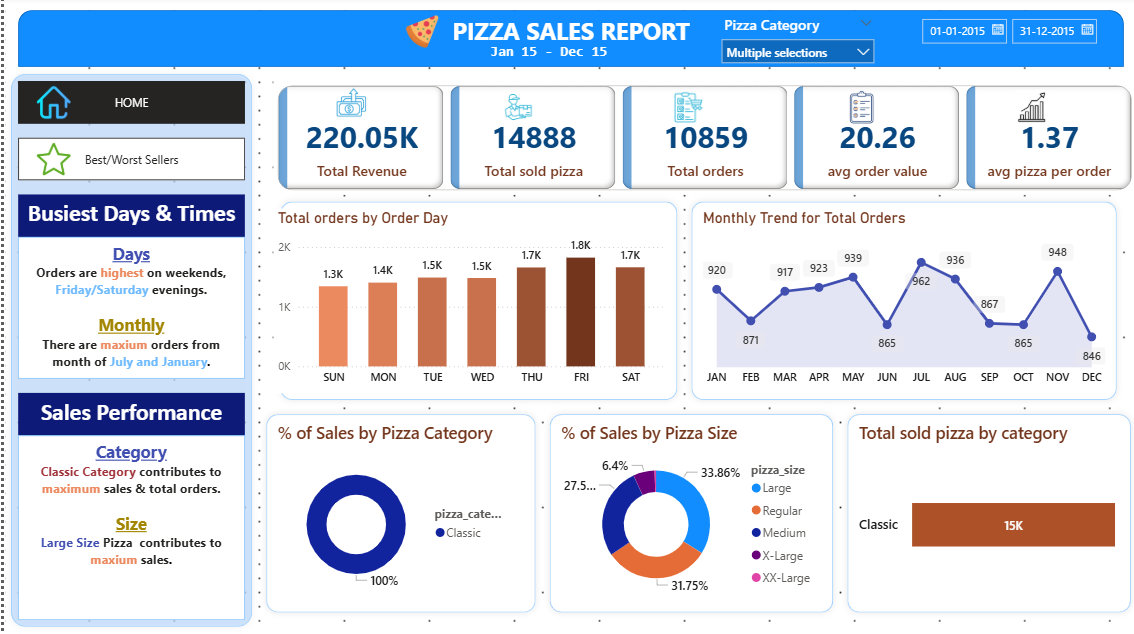

This screenshot's page, from the dashboard's own definition file:
{"tool":"powerbi","page":{"name":"HOME","canvas":[1280,720],"ordinal":0},"visuals":[{"type":"cardVisual","fields":{"Data":["pizza_sales.Total Revenue","pizza_sales.Total sold pizza","pizza_sales.Total orders","pizza_sales.avg order value","pizza_sales.avg pizza per order"]},"box":[304,96,976,128],"z":0},{"type":"shape","box":[16,16,1248,64],"z":1000},{"type":"textbox","box":[432,16,416,64],"z":2000},{"type":"textbox","box":[544,48,160,32],"z":3000},{"type":"image","box":[448,16,48,48],"z":4000},{"type":"image","box":[368,96,48,48],"z":5000},{"type":"image","box":[751,103,45,45],"z":6000},{"type":"image","box":[560,100,41,51],"z":7000},{"type":"image","box":[944,101,48,48],"z":8000},{"type":"image","box":[1136,101,48,48],"z":9000},{"type":"shape","box":[304,224,464,240],"z":10000},{"type":"columnChart","fields":{"Category":["pizza_sales.Order Day"],"Y":["pizza_sales.Total orders"]},"box":[304,240,448,208],"z":11000},{"type":"shape","box":[768,224,496,240],"z":12000},{"type":"areaChart","title":"Monthly Trend for Total Orders","fields":{"Y":["pizza_sales.Total orders"],"Category":["pizza_sales.Order Month"]},"box":[784,240,464,208],"z":13000},{"type":"shape","box":[288,464,320,240],"z":14000},{"type":"shape","box":[0,80,288,640],"z":14500},{"type":"shape","box":[608,464,336,240],"z":15000},{"type":"shape","box":[944,464,336,240],"z":16000},{"type":"donutChart","title":"% of Sales by Pizza Category","fields":{"Category":["pizza_sales.pizza_category"],"Y":["pizza_sales.Total Revenue"]},"box":[304,480,272,208],"z":17000},{"type":"donutChart","title":"% of Sales by Pizza Size","fields":{"Y":["pizza_sales.Total Revenue"],"Category":["pizza_sales.pizza_size"]},"box":[624,480,304,208],"z":18000},{"type":"funnel","title":"Total sold pizza by category","fields":{"Category":["pizza_sales.pizza_category"],"Y":["pizza_sales.Total sold pizza"]},"box":[960,480,304,208],"z":20000},{"type":"textbox","box":[16,224,256,48],"z":21000},{"type":"textbox","box":[16,272,256,160],"z":21001},{"type":"textbox","box":[16,448,256,48],"z":21002},{"type":"textbox","box":[16,496,256,208],"z":21003},{"type":"slicer","fields":{"Values":["pizza_sales.pizza_category"]},"box":[800,16,192,64],"z":21004},{"type":"slicer","fields":{"Values":["pizza_sales.order_date"]},"box":[1024,16,224,64],"z":21005},{"type":"pageNavigator","box":[16,96,256,48],"z":21006},{"type":"pageNavigator","box":[16,160,256,48],"z":21007},{"type":"image","box":[32,96,48,48],"z":21008},{"type":"image","box":[32,160,48,48],"z":21009}]}

Visuals, with their boxes in screenshot pixels (x1, y1, x2, y2), scaled from the page's 1280x720 canvas onto the 1134x634 screenshot:
cardVisual - pizza_sales.Total Revenue x pizza_sales.Total sold pizza: bbox(269, 85, 1133, 197)
shape: bbox(14, 14, 1120, 70)
textbox: bbox(383, 14, 751, 70)
textbox: bbox(482, 42, 624, 70)
image: bbox(397, 14, 439, 56)
image: bbox(326, 85, 369, 127)
image: bbox(665, 91, 705, 130)
image: bbox(496, 88, 532, 133)
image: bbox(836, 89, 879, 131)
image: bbox(1006, 89, 1049, 131)
shape: bbox(269, 197, 680, 409)
columnChart - pizza_sales.Order Day x pizza_sales.Total orders: bbox(269, 211, 666, 394)
shape: bbox(680, 197, 1120, 409)
"Monthly Trend for Total Orders" areaChart: bbox(695, 211, 1106, 394)
shape: bbox(255, 409, 539, 620)
shape: bbox(0, 70, 255, 633)
shape: bbox(539, 409, 836, 620)
shape: bbox(836, 409, 1133, 620)
"% of Sales by Pizza Category" donutChart: bbox(269, 423, 510, 606)
"% of Sales by Pizza Size" donutChart: bbox(553, 423, 822, 606)
"Total sold pizza by category" funnel: bbox(850, 423, 1120, 606)
textbox: bbox(14, 197, 241, 240)
textbox: bbox(14, 240, 241, 380)
textbox: bbox(14, 394, 241, 437)
textbox: bbox(14, 437, 241, 620)
slicer - pizza_sales.pizza_category: bbox(709, 14, 879, 70)
slicer - pizza_sales.order_date: bbox(907, 14, 1106, 70)
pageNavigator: bbox(14, 85, 241, 127)
pageNavigator: bbox(14, 141, 241, 183)
image: bbox(28, 85, 71, 127)
image: bbox(28, 141, 71, 183)
